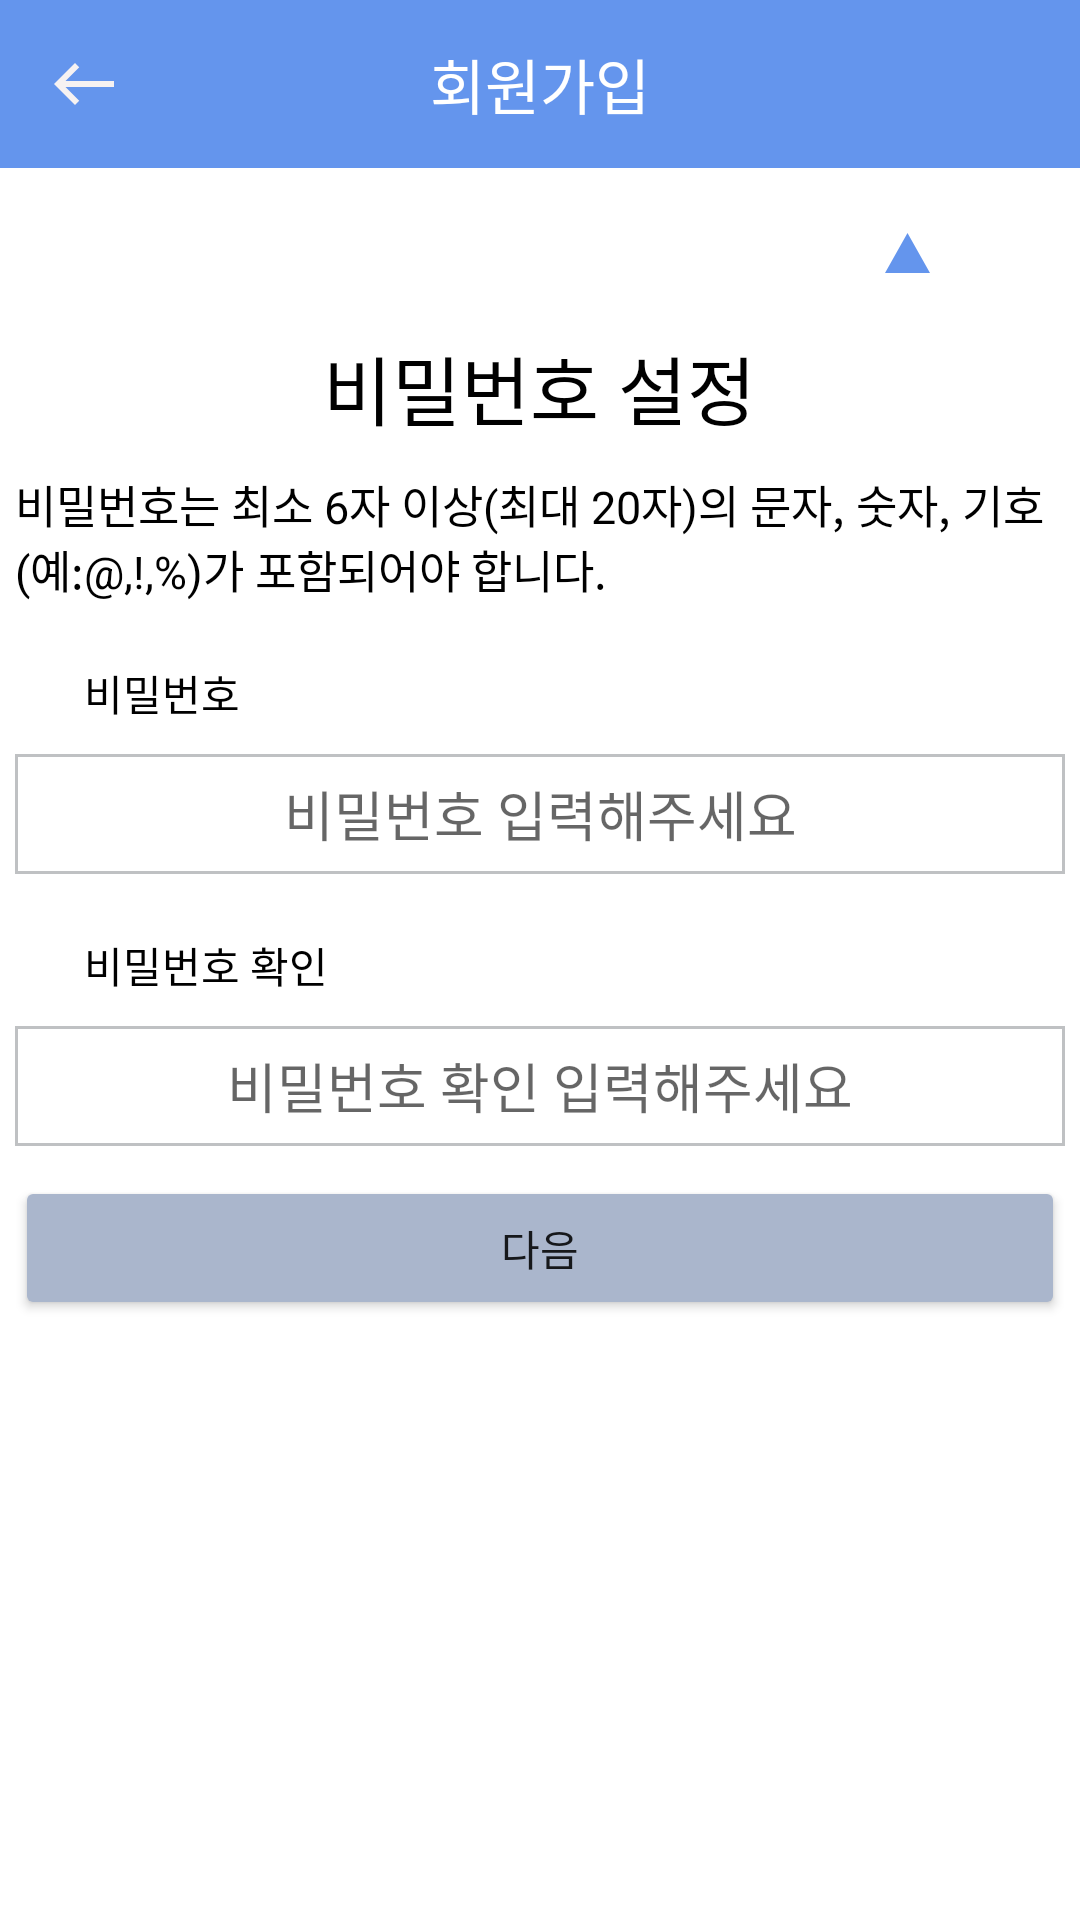

Icon click points for this 1080*1920 phone screenshot, format (x=x, y=y):
west: (x=84, y=84)
